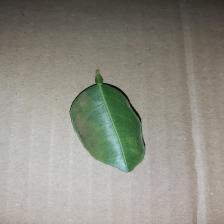greening: (65, 66, 153, 174)
